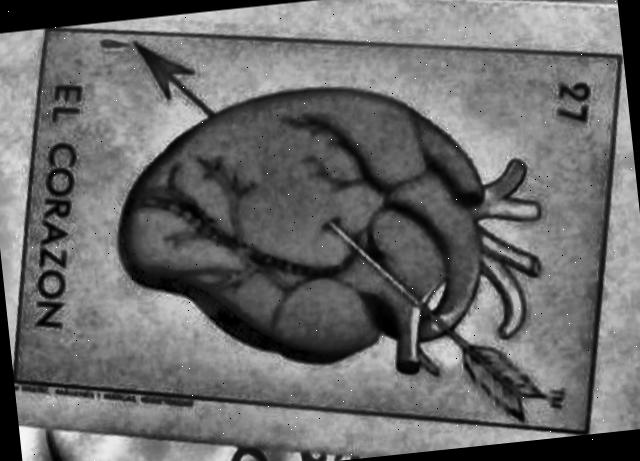El Corazon: (17, 32, 621, 430)
